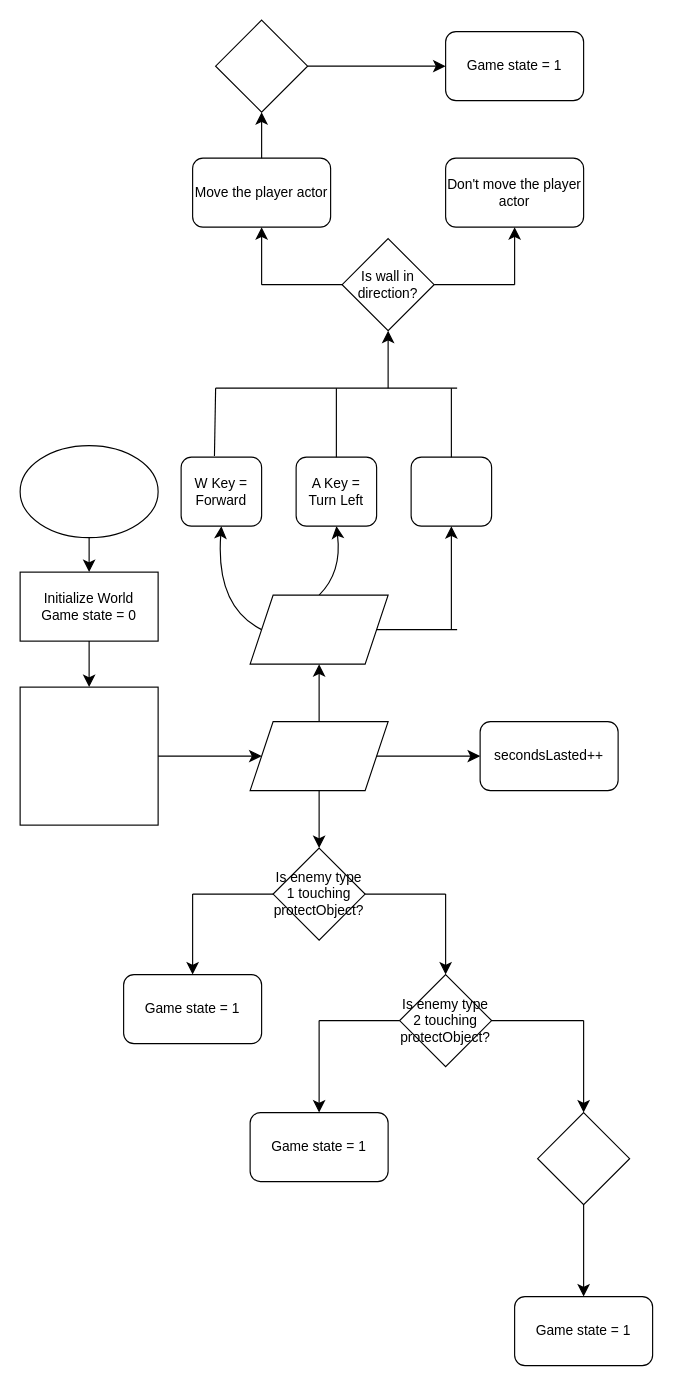
Image size: 673x1386. Some labels were removed from this diagram. Here are the shapes that lost their labels. From the top down, the box of each, then its label:
(214, 19, 308, 112): Is player touching enemy type 3?
(19, 444, 158, 538): Program Start
(410, 456, 492, 526): D Key = Right
(249, 594, 388, 664): User moves
(19, 686, 158, 825): Initialize Actors: Player Protect Object Walls/Fake Walls Enemy of Type 1 2 or 3
(249, 720, 388, 791): Frame x
(536, 1111, 630, 1205): Is Wall fake = true touching protectObject?
